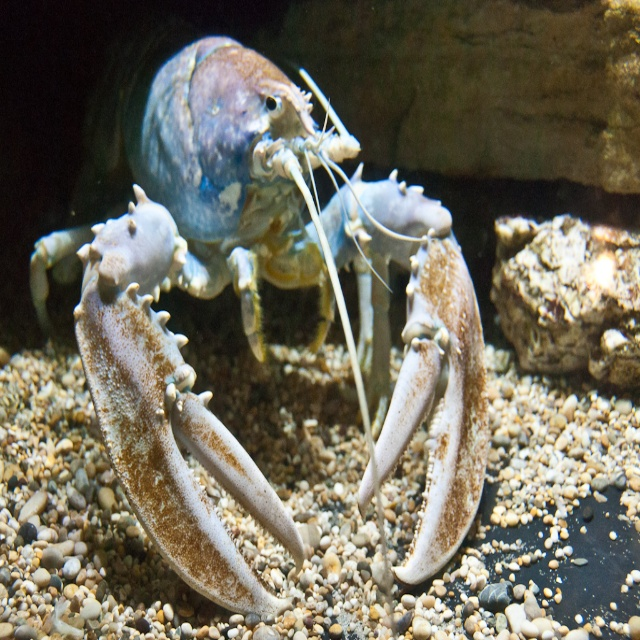Crab: (24, 31, 488, 619)
